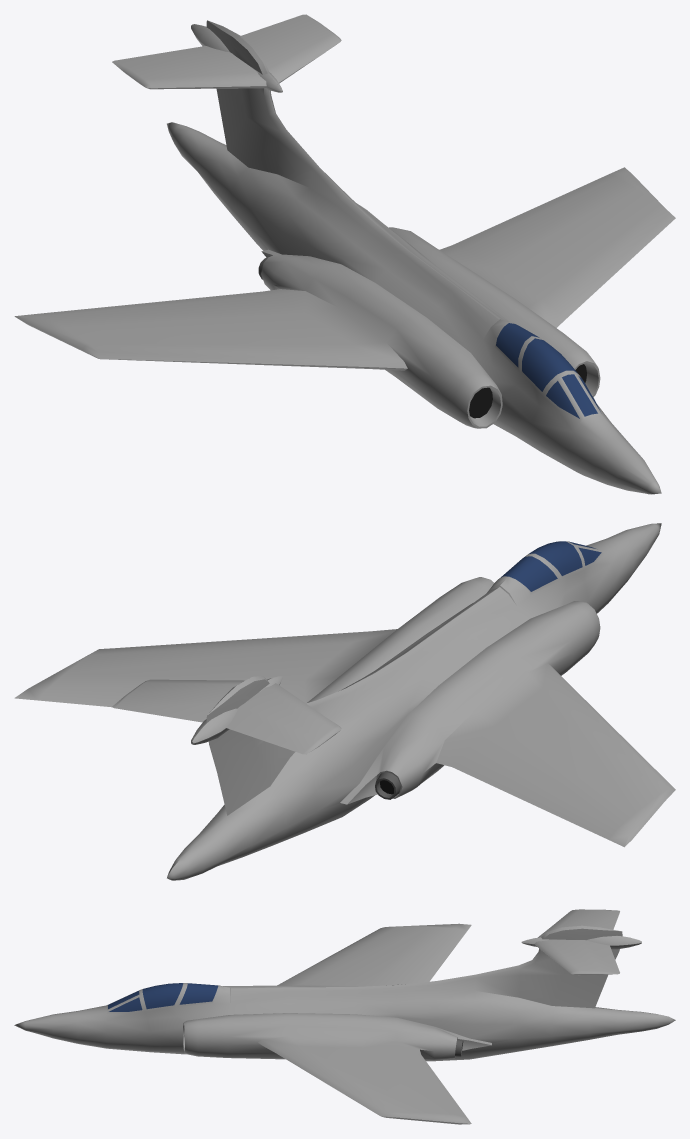
The model's file is BUCCANEER.glb.
The picture shows the model from 3 angles, top to bottom: view 1: azimuth 30°, elevation 25°; view 2: azimuth 150°, elevation 25°; view 3: azimuth 270°, elevation 25°; orthographic projection. The views are drawn at different scales.
Visible parts, largest first — view 1: buccaneer; view 2: buccaneer; view 3: buccaneer.
Boxes of the visible parts, bbox=[...] form: buccaneer: bbox=[14, 14, 675, 494]; buccaneer: bbox=[14, 523, 675, 880]; buccaneer: bbox=[14, 909, 675, 1124].
Bounding box in the file's own units: 13.74 × 4.3 × 19.3.
